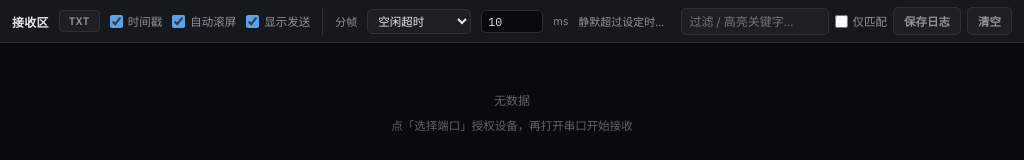
Test case: 接收区分帧控件 › 输入框留空时失焦，回填当前生效值
Clear the number field named "空闲时长" at (512, 21), box [481,10,543,32]
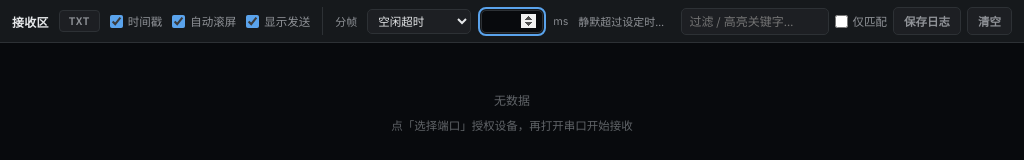
Press Tab
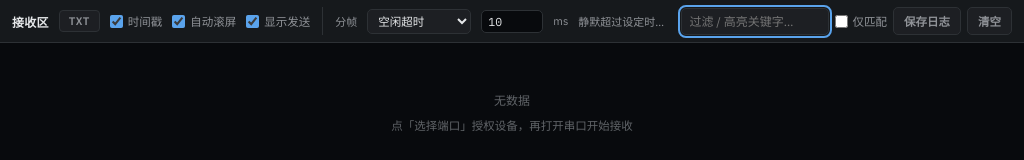
Now the number field named "空闲时长" holds "10", box [481,10,543,32]
